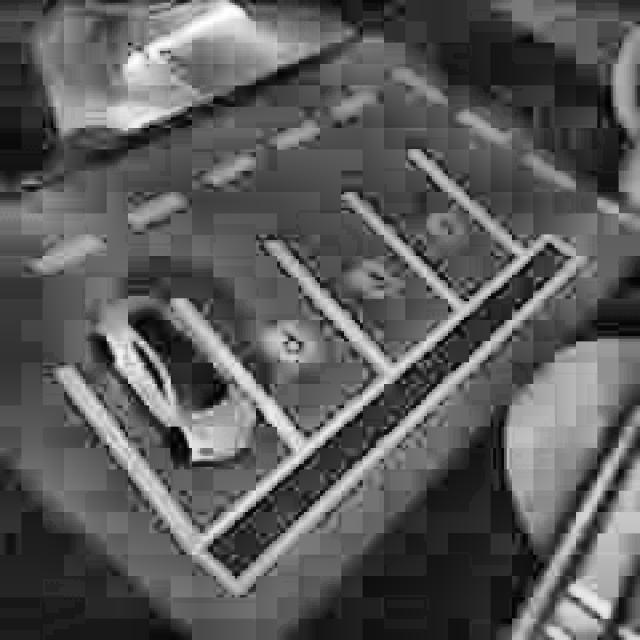car: (90, 289, 270, 481)
